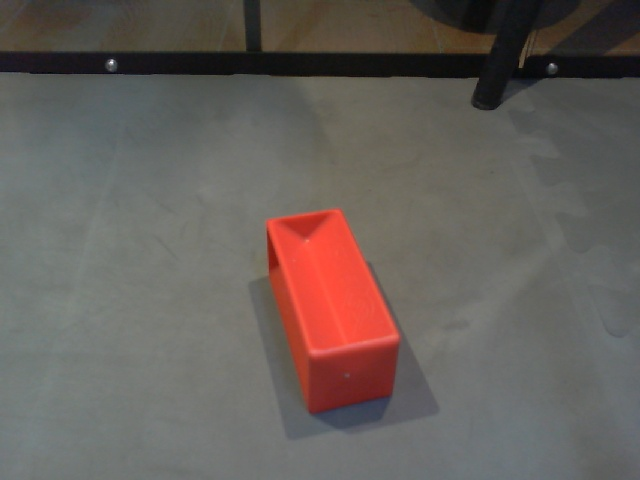RedSample: (260, 204, 401, 415)
